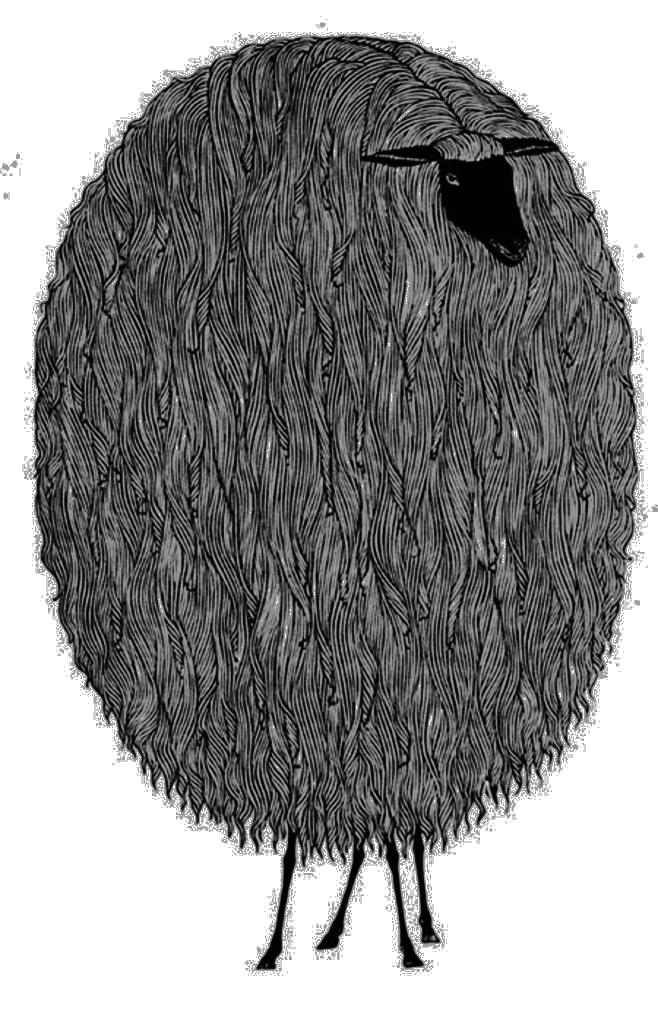Sheep: (63, 71, 613, 767)
